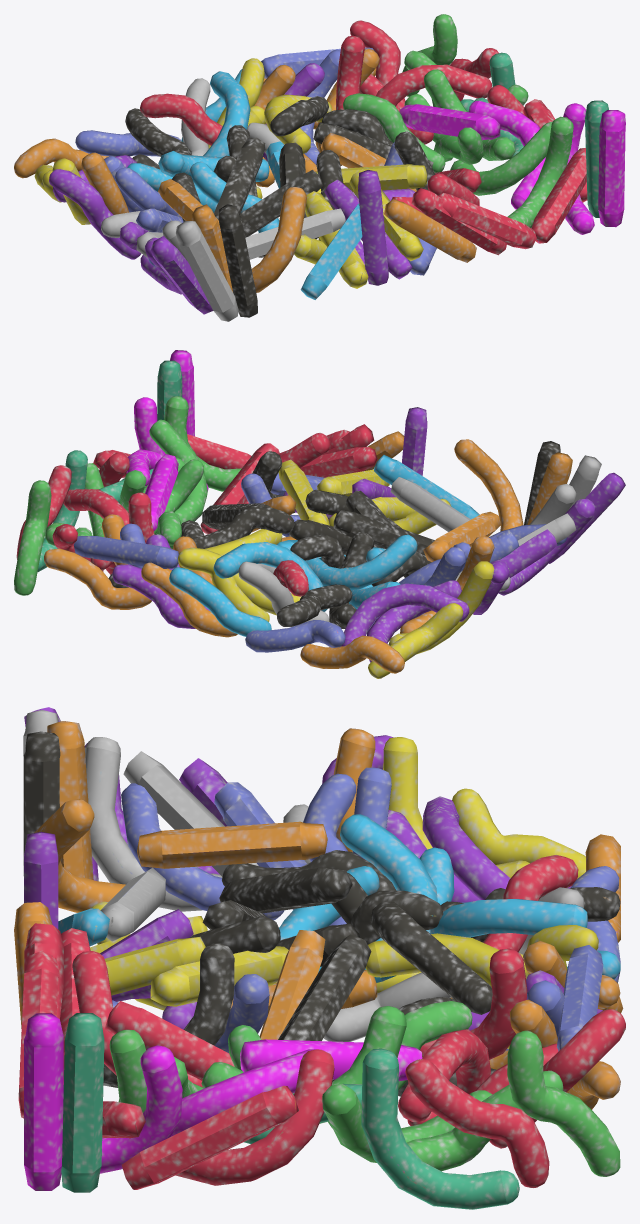
Rendered from GummyWorms_WTPls.fbx.
3 renders of one model, top to bottom at view 1: azimuth 30°, elevation 25°; view 2: azimuth 150°, elevation 25°; view 3: azimuth 270°, elevation 25°, orthographic. The views are drawn at different scales.
Visible parts, largest first — view 1: Item_GummyWorm_1; view 2: Item_GummyWorm_1; view 3: Item_GummyWorm_1.
Part boxes in pixels (left/top/right/bottom): Item_GummyWorm_1: left=14, top=14, right=625, bottom=321; Item_GummyWorm_1: left=14, top=350, right=625, bottom=678; Item_GummyWorm_1: left=14, top=707, right=625, bottom=1209.
Bounding box in the file's own units: 62.77 × 15.5 × 45.59.
Materials: 1 (1 with a texture image).
